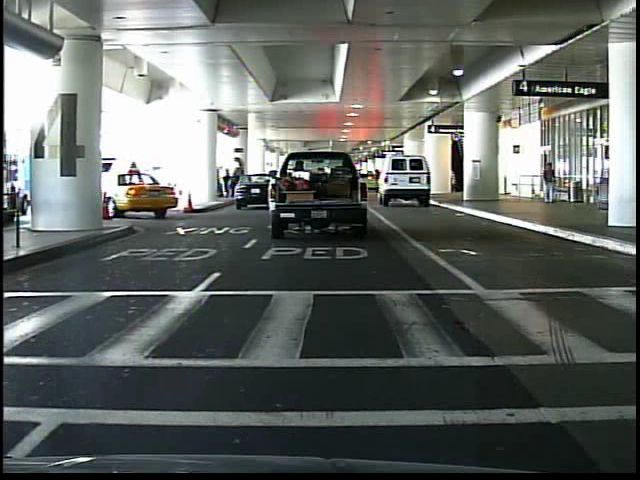person: (538, 157, 558, 209)
